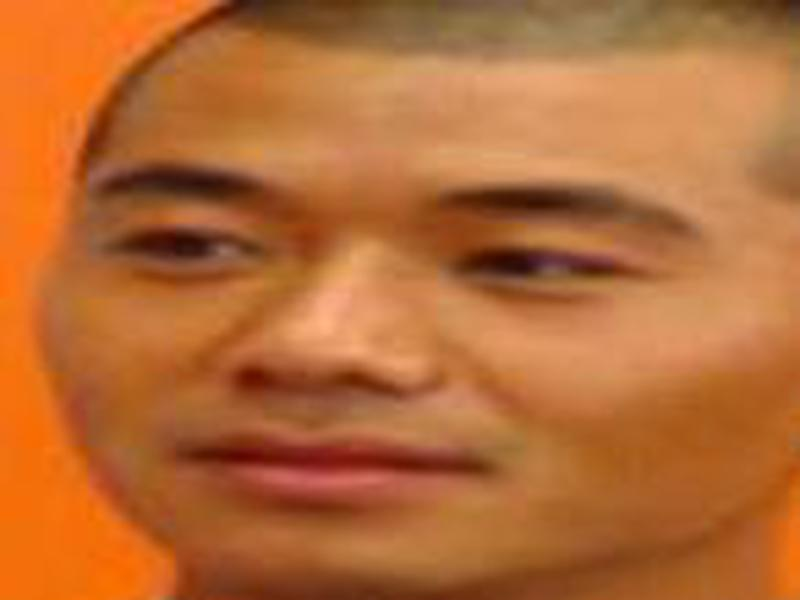without_mask: (30, 91, 800, 600)
